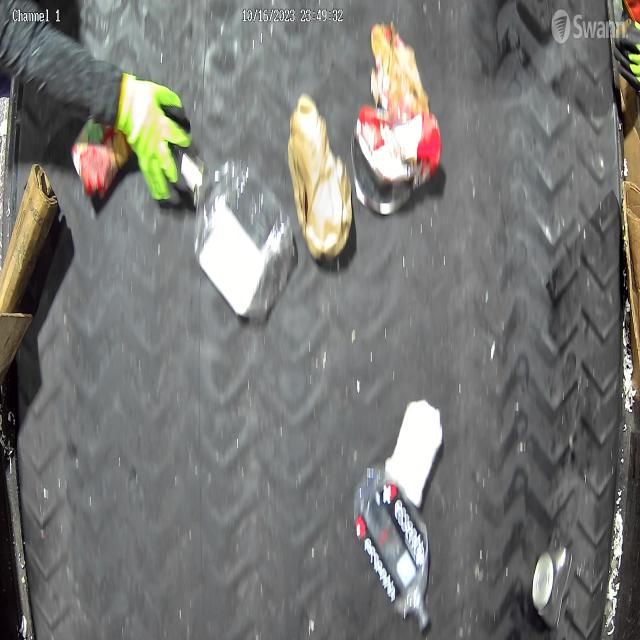can: (352, 109, 441, 214), (72, 119, 130, 198), (533, 546, 576, 626)
plastic_bottle: (357, 472, 432, 635)
